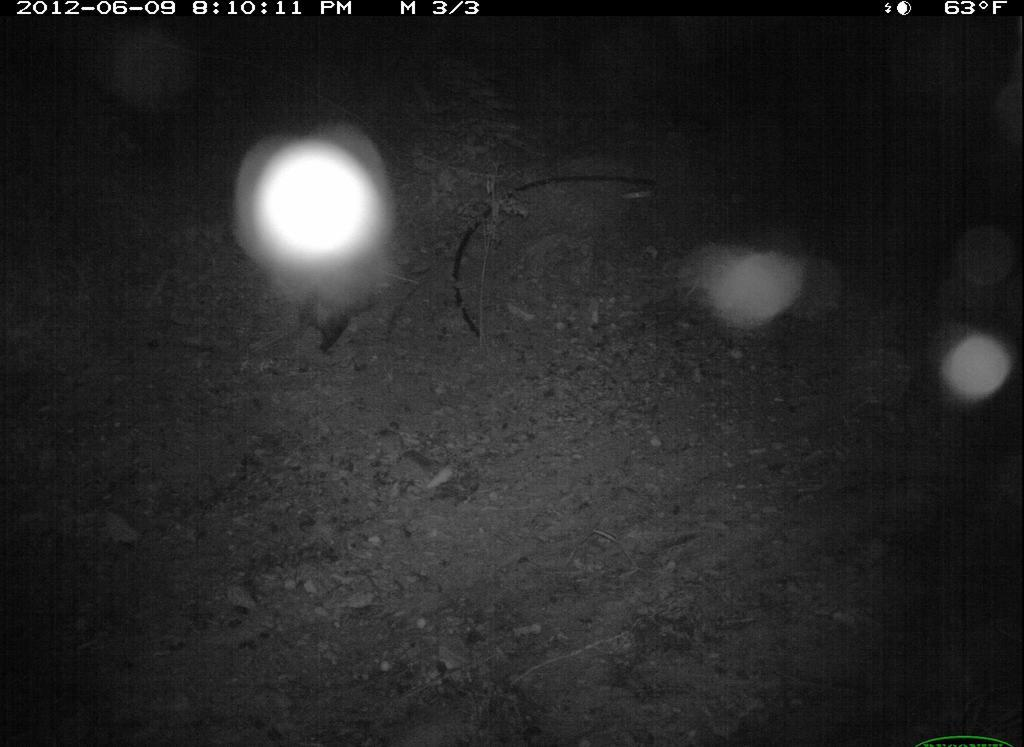opossum: (242, 249, 420, 358)
